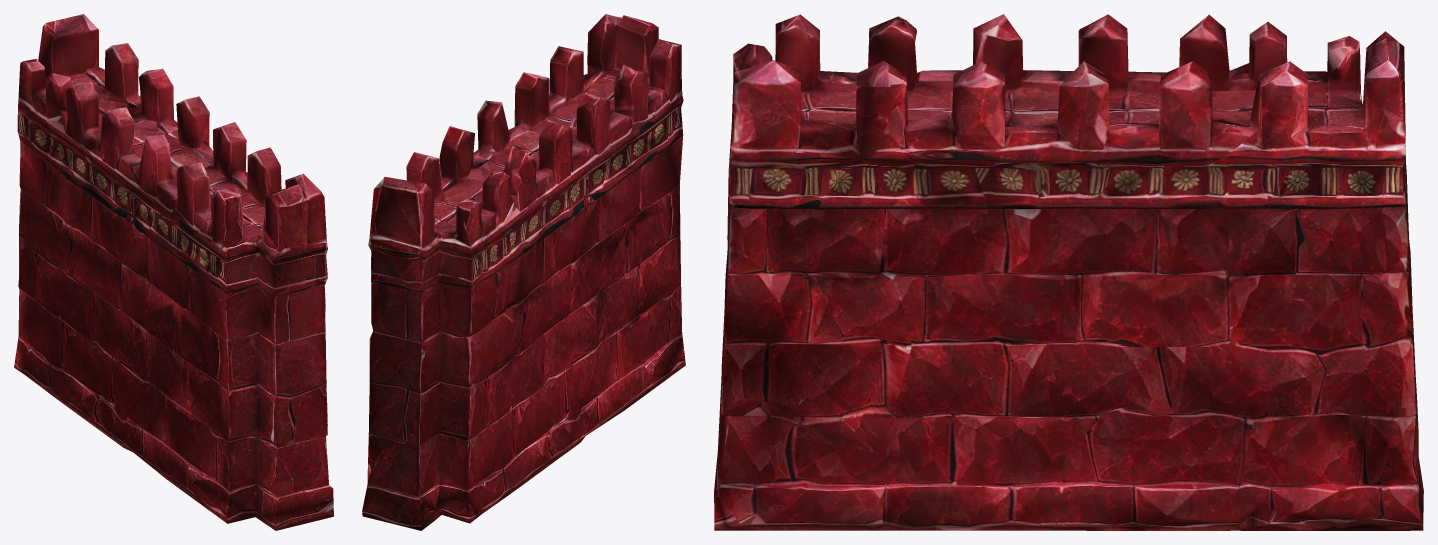
Rendered from castle_wall_diamond_red.glb.
3 views of the same model, side by side, from view 1: azimuth 30°, elevation 25°; view 2: azimuth 150°, elevation 25°; view 3: azimuth 270°, elevation 25° (orthographic). The views are drawn at different scales.
Parts seen in each view (by area): view 1: tripo_node_06179193-1344-4d8b-99e5-17598ad9e9df; view 2: tripo_node_06179193-1344-4d8b-99e5-17598ad9e9df; view 3: tripo_node_06179193-1344-4d8b-99e5-17598ad9e9df.
Part boxes in pixels (left/top/right/bottom): tripo_node_06179193-1344-4d8b-99e5-17598ad9e9df: left=14, top=14, right=333, bottom=530; tripo_node_06179193-1344-4d8b-99e5-17598ad9e9df: left=362, top=14, right=685, bottom=530; tripo_node_06179193-1344-4d8b-99e5-17598ad9e9df: left=714, top=14, right=1423, bottom=530.
Size of the model in its own units: 0.2077 by 0.7075 by 0.9771.
Materials: 1 (1 with a texture image).
